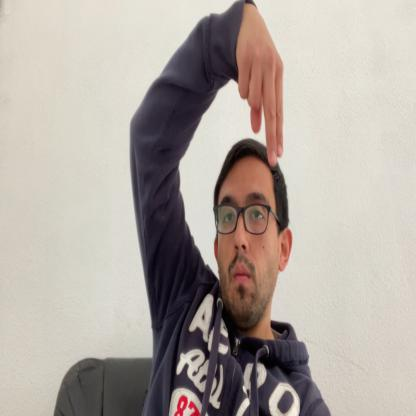N: (237, 4, 284, 169)
